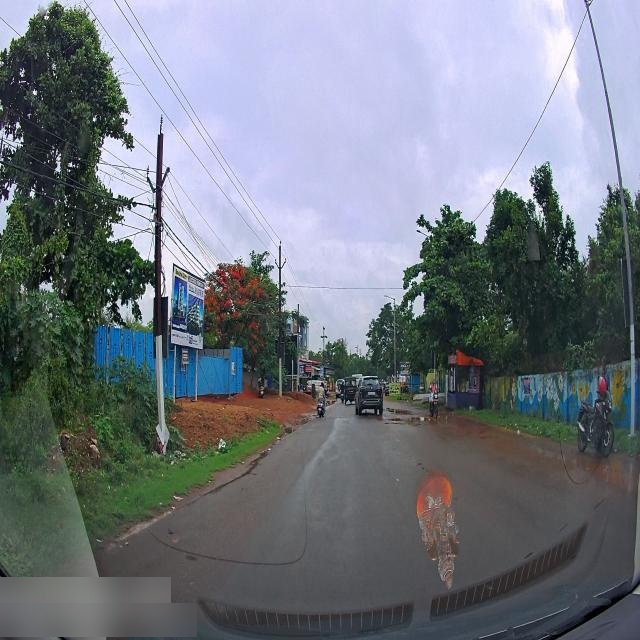pothole: (391, 404, 411, 416)
